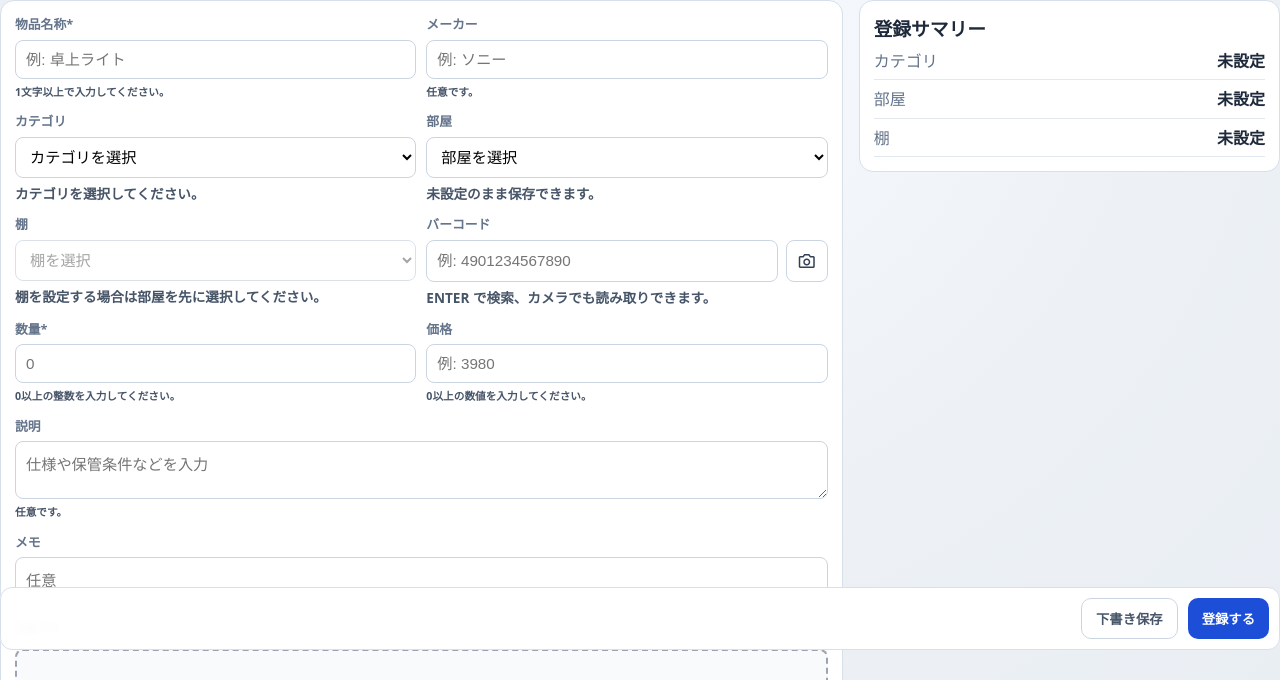
ItemForm Success Criteria Metrics › SC-003: 失敗時に10秒以内で次アクションを提示
Type "4901234567890" into the field named "barcode" at (602, 261), box [426,240,778,282]
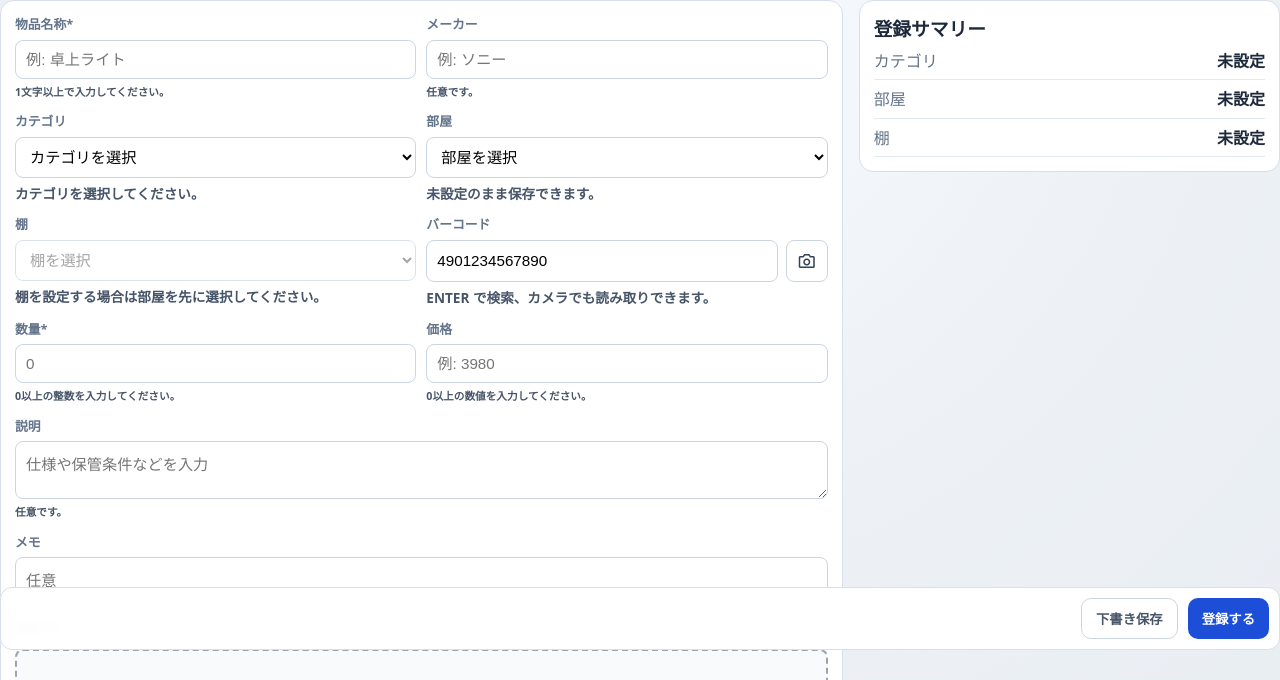
Press Enter in the field named "barcode", box [426,240,778,282]
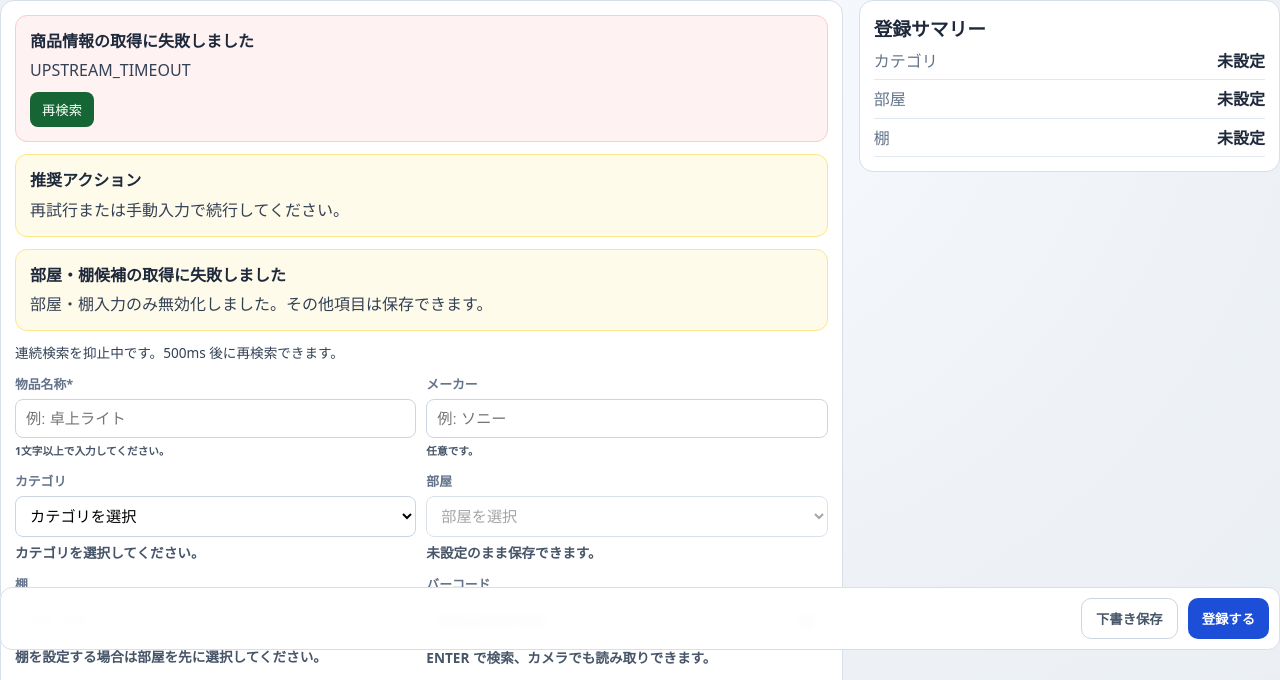
Now the text "推奨アクション" is shown, box [30,169,141,191]
Now the text "再試行" is shown, box [30,199,349,221]
